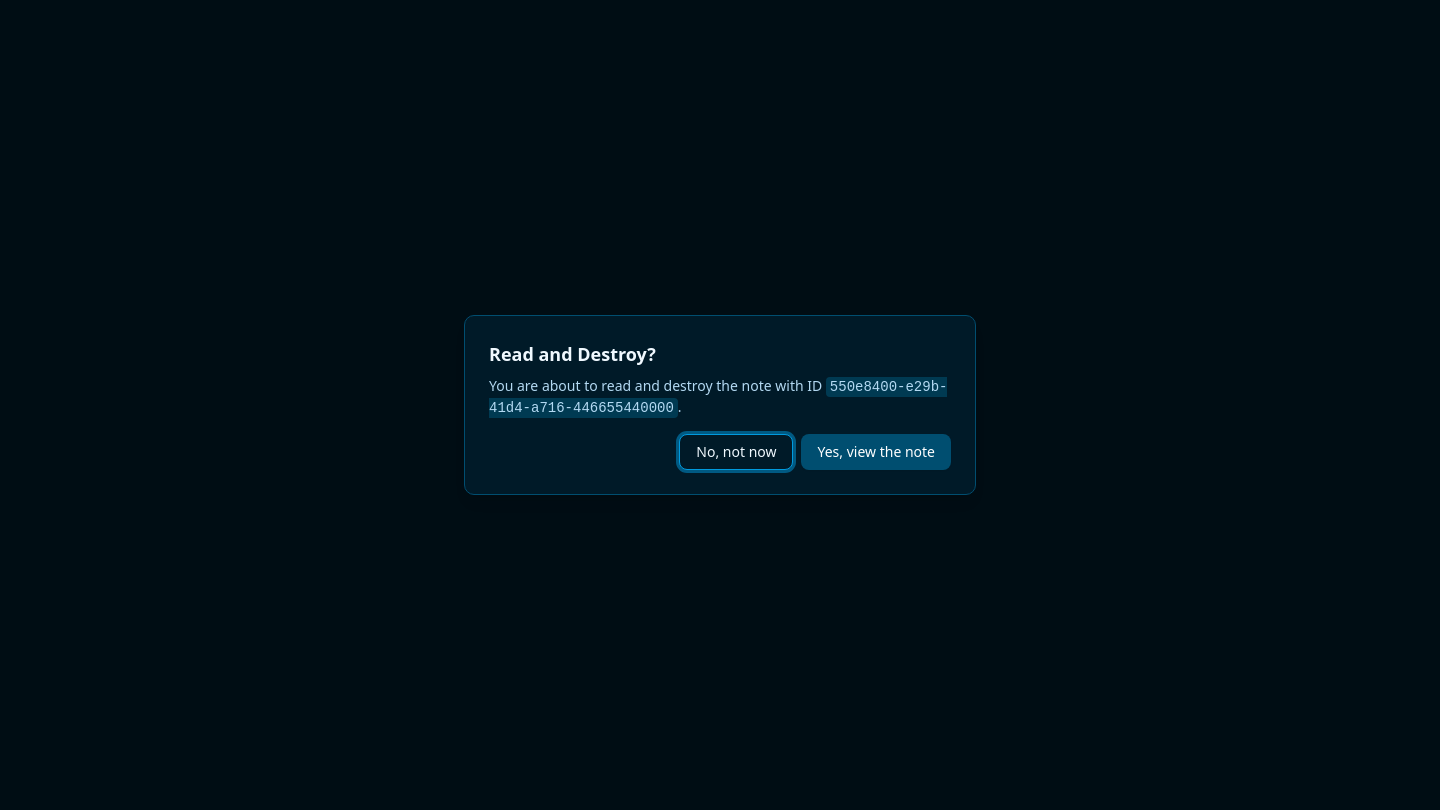
Scenario: NotePage › shows connection error when hash is missing
expect the dialog is shown: met, box [464,315,976,495]
Step 1. Click the button "Yes, view the note" → (876, 452), box [802,434,951,470]
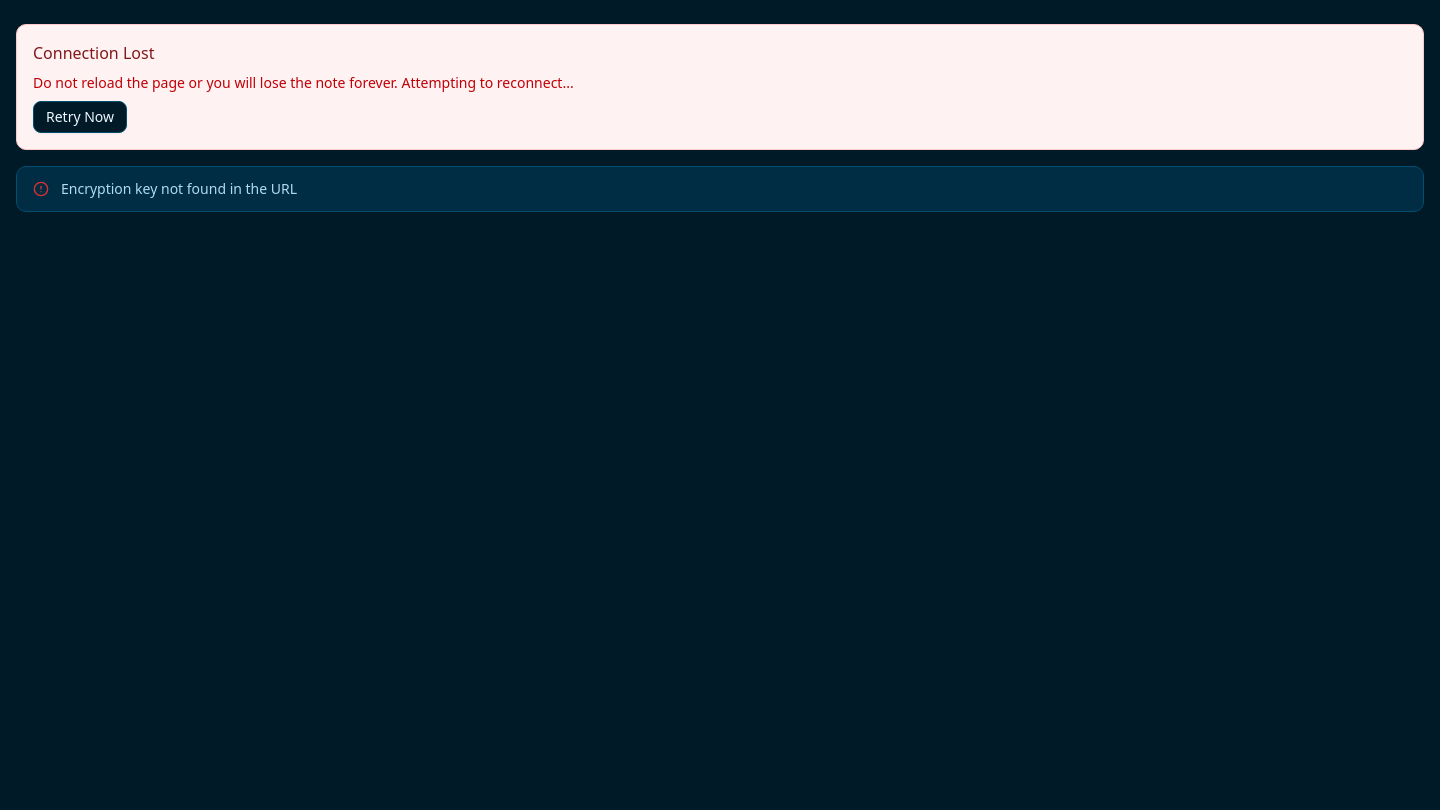
expect the text "Connection Lost" is shown: met, box [33,42,154,64]
